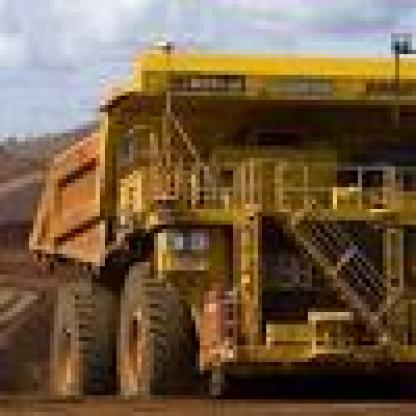dump_truck: (12, 37, 412, 400)
